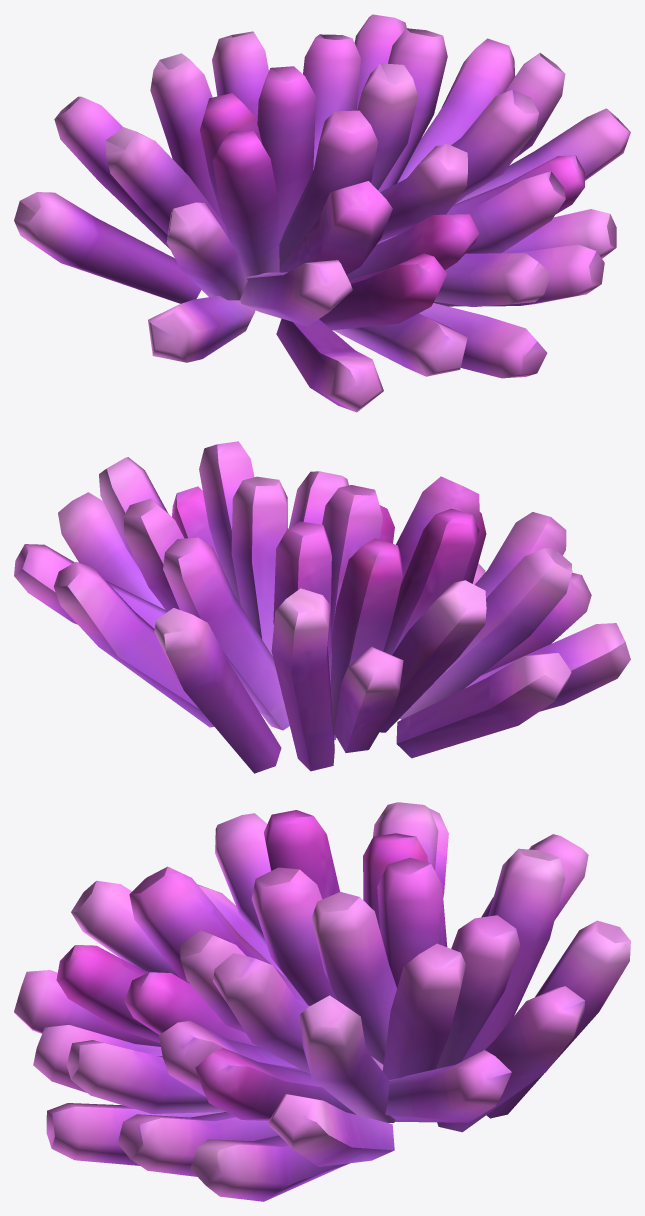
Rendered from Coral.gltf.
3 renders of one model, top to bottom at view 1: azimuth 30°, elevation 25°; view 2: azimuth 150°, elevation 25°; view 3: azimuth 270°, elevation 25°, orthographic. The views are drawn at different scales.
Parts seen in each view (by area): view 1: node-0; view 2: node-0; view 3: node-0.
Part boxes in pixels (bbox=[...]): node-0: bbox=[14, 14, 630, 412]; node-0: bbox=[14, 441, 630, 773]; node-0: bbox=[14, 802, 630, 1201].
Size of the model in its own units: 6.32 by 2.54 by 5.39.
Materials: 1 (1 with a texture image).
